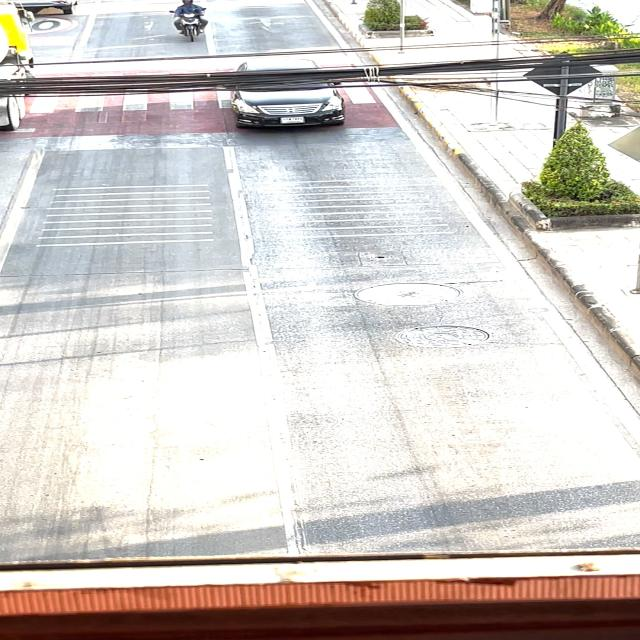car: (214, 59, 364, 145)
